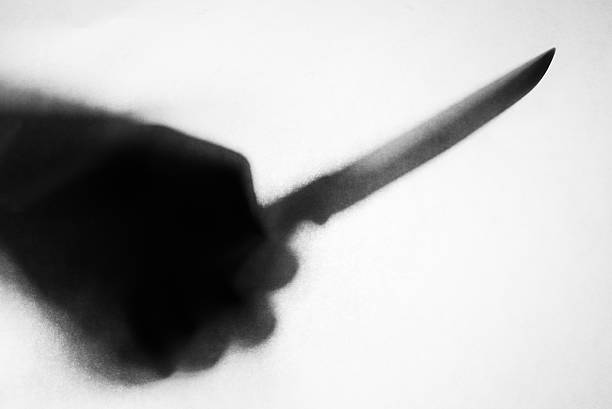k1: (276, 39, 571, 251)
